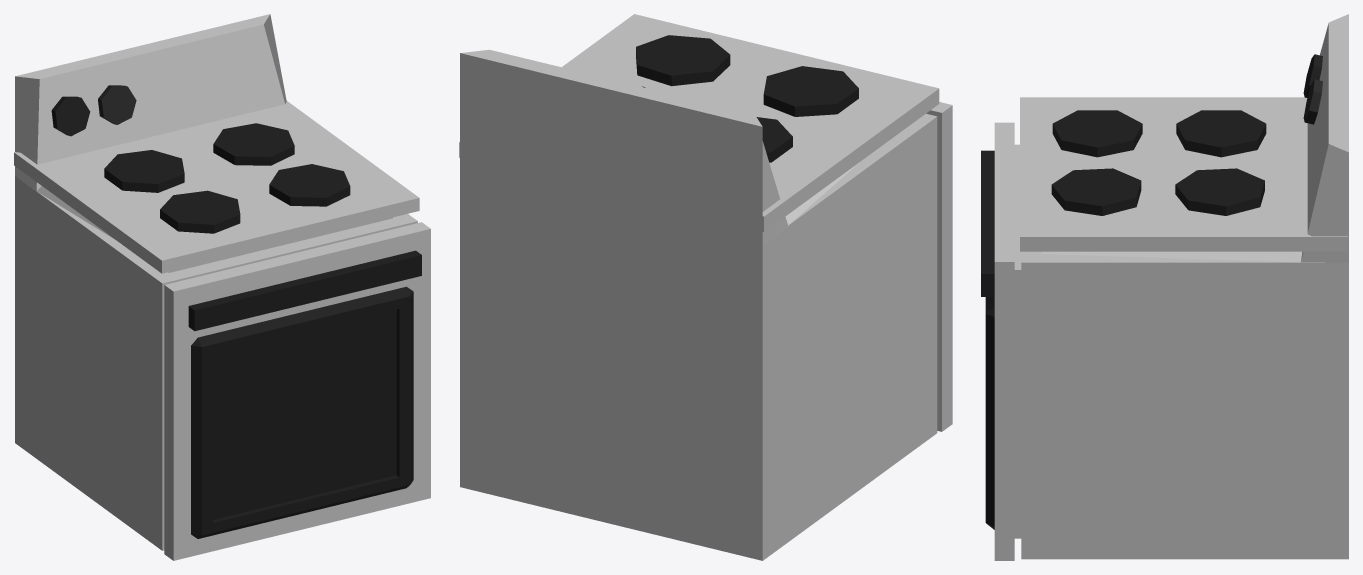
The model's file is oven.fbx.
3 views of the same model, side by side, from view 1: azimuth 30°, elevation 25°; view 2: azimuth 150°, elevation 25°; view 3: azimuth 270°, elevation 25° (orthographic). The views are drawn at different scales.
Visible parts, largest first — view 1: oven; view 2: oven; view 3: oven.
Part boxes in pixels (<box>): oven: <box>14,14,430,560</box>; oven: <box>459,14,952,560</box>; oven: <box>981,14,1348,560</box>.
Size of the model in its own units: 84.16 by 115 by 93.76.
